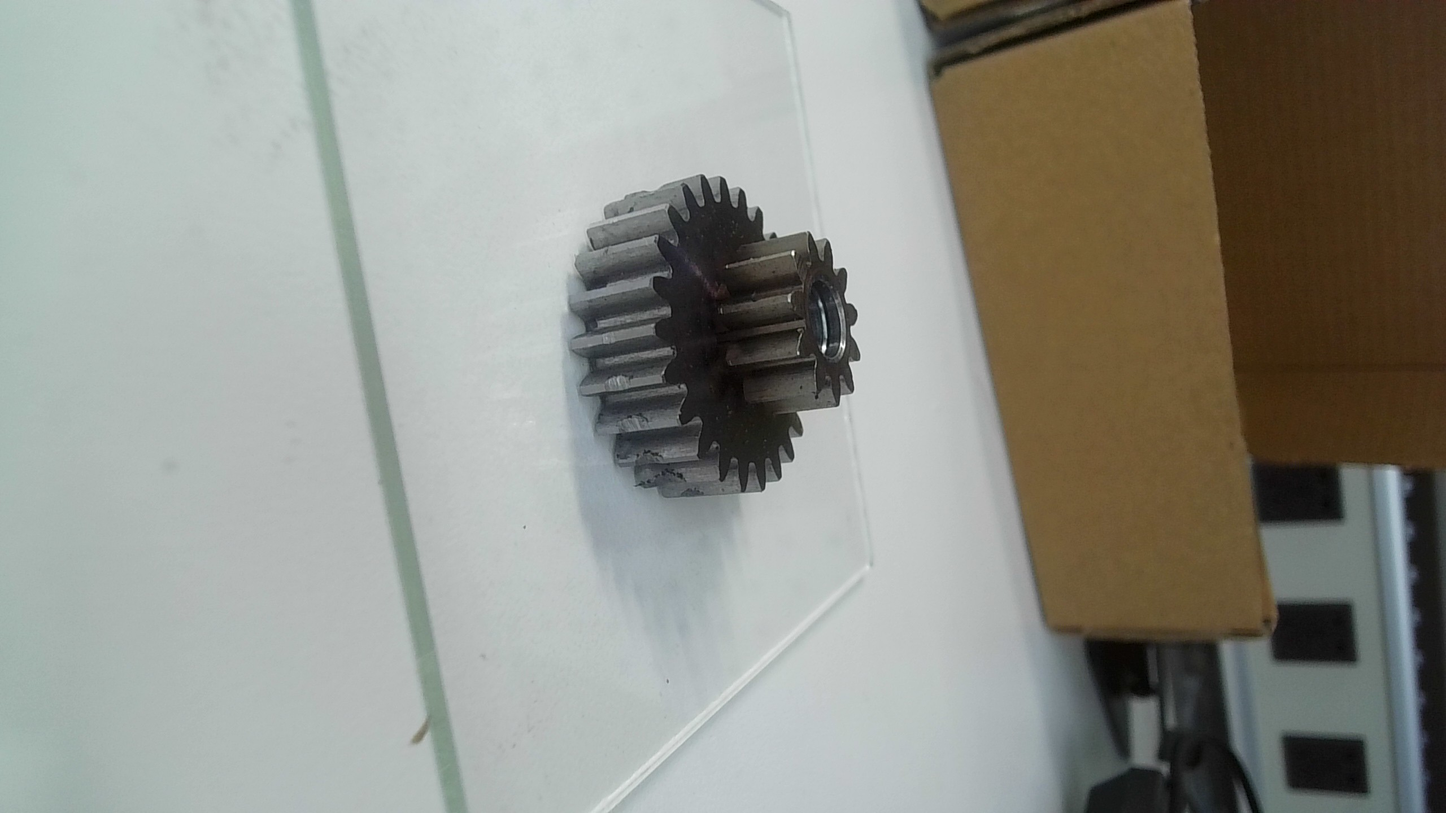gear: (565, 171, 862, 496)
